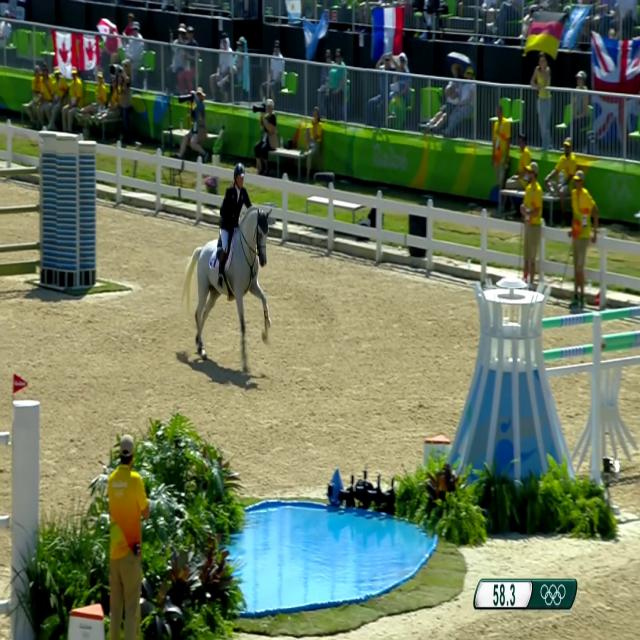Horse Running: (184, 147, 291, 390)
